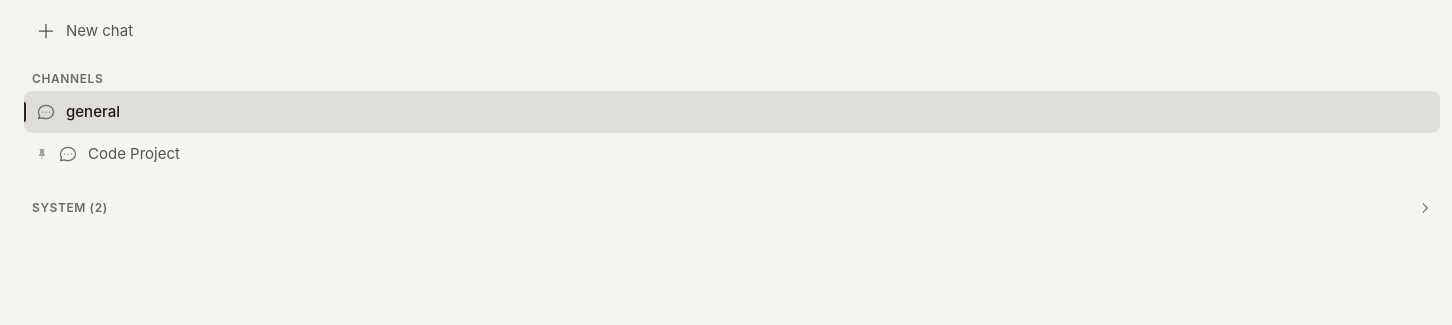
Test: context menu › shows Rename / Pin / Delete on cron sessions (chattable now), no Archive
Step 1. Click the button "System (2)" → x=63, y=207, box left=24, top=192, right=1440, bottom=224
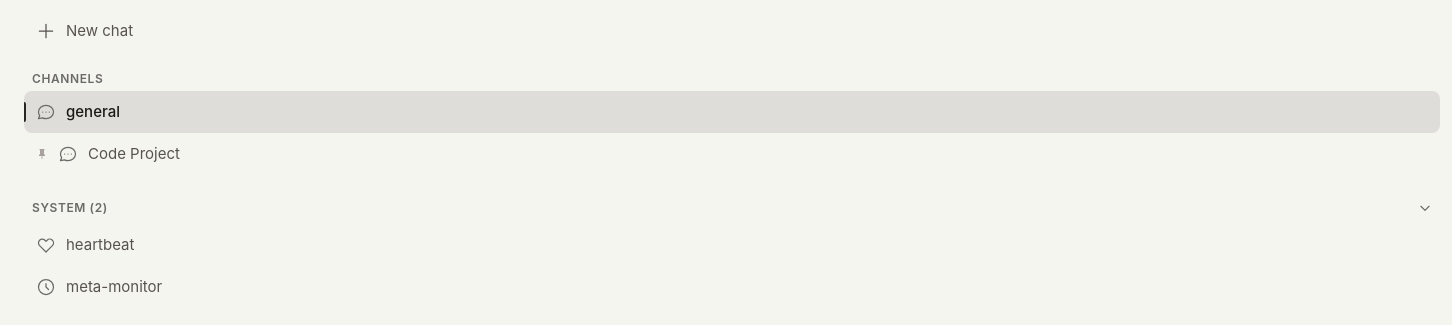
Step 2. Right-click the button "meta-monitor" → x=114, y=286, box left=24, top=266, right=1440, bottom=308
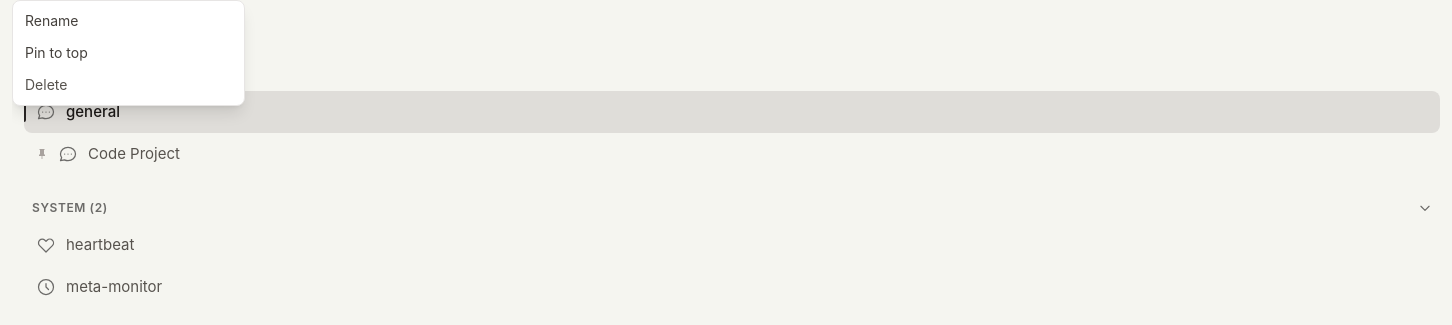
Expected: the button "Rename" is shown, left=13, top=5, right=244, bottom=37
Expected: the button "Pin to top" is shown, left=13, top=37, right=244, bottom=69
Expected: the button "Delete" is shown, left=13, top=69, right=244, bottom=101
